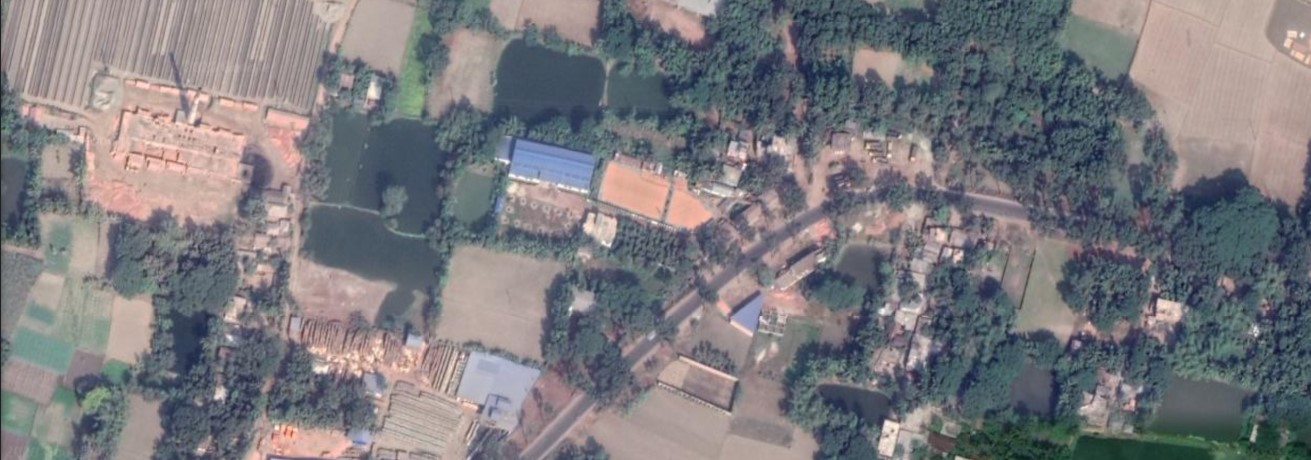kiln: (111, 66, 247, 180)
